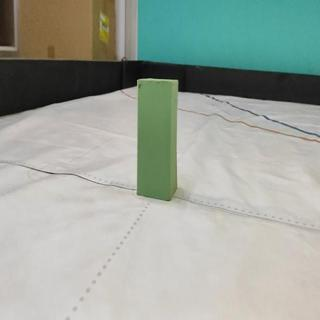greenbox: (137, 79, 179, 201)
